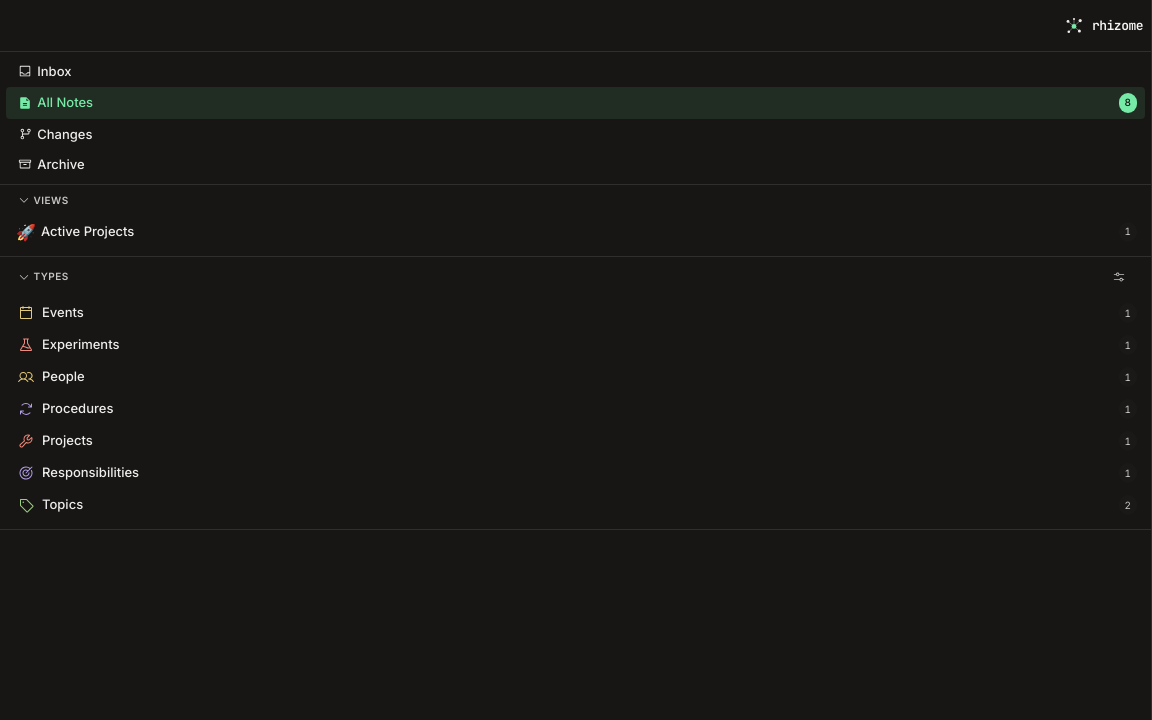
Test: Sidebar › view row actions › shows View-specific context menu labels on right-click
Right-click the button "🚀 Active Projects 1".
right_click(88, 231)  # box [6,216,1145,248]
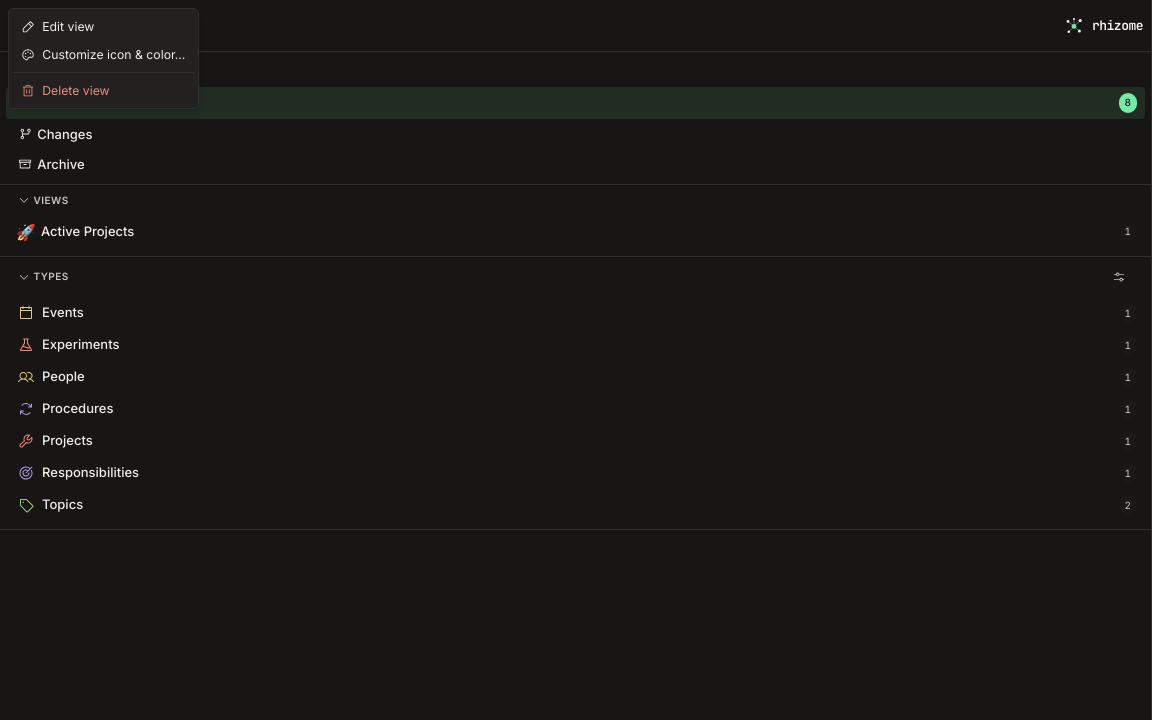
Now the button "Edit view" is shown, box [12,12,194,40]
Now the button "Customize icon & color…" is shown, box [12,40,194,68]
Now the button "Delete view" is shown, box [12,76,194,104]
